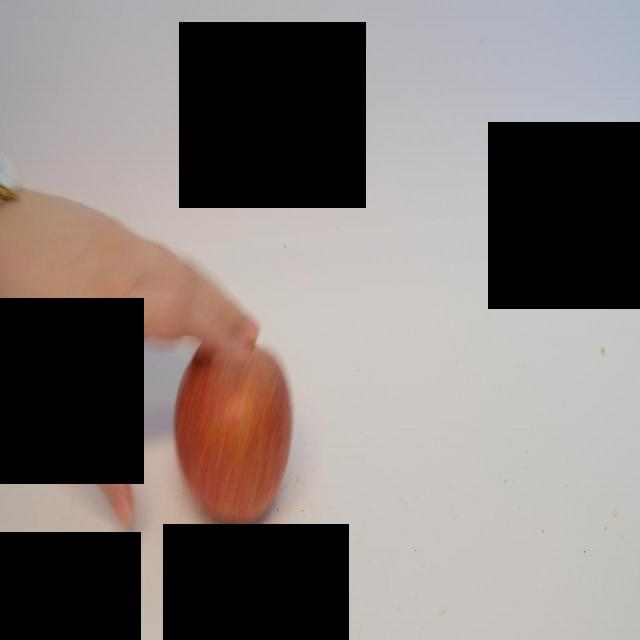apple: (174, 334, 295, 534)
